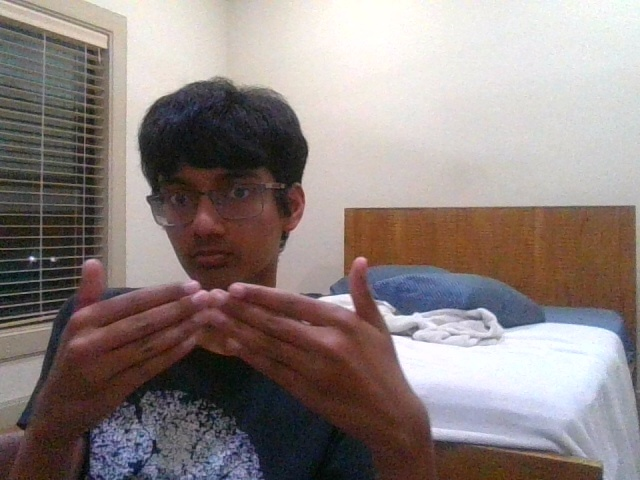thanks: (47, 259, 426, 443)
